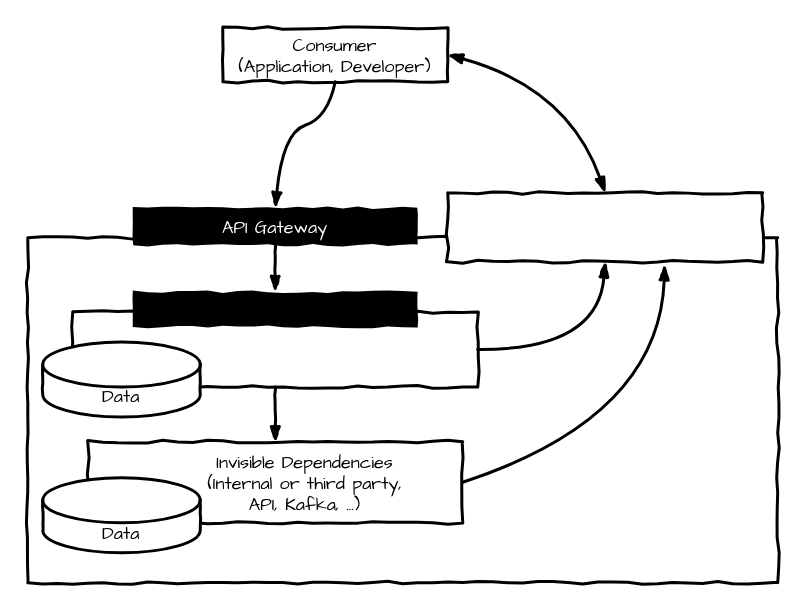
Image size: 804x609. Some labels were removed from this diagram. Here are the shapes that lost their labels. From the top down, the box of each, then its label:
(446, 190, 764, 262): Visible Dependencies (IdP, SMS, Webhook, Real world, ...)
(132, 291, 417, 326): API
(70, 310, 478, 388): Implementation
